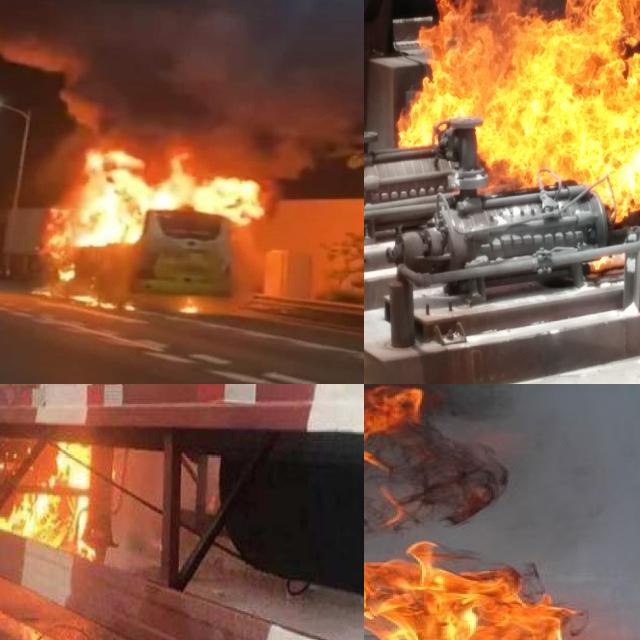fire: (364, 384, 595, 640), (402, 0, 640, 237), (46, 146, 266, 309), (0, 430, 104, 599)
smoke: (0, 0, 359, 166), (364, 384, 504, 519)
